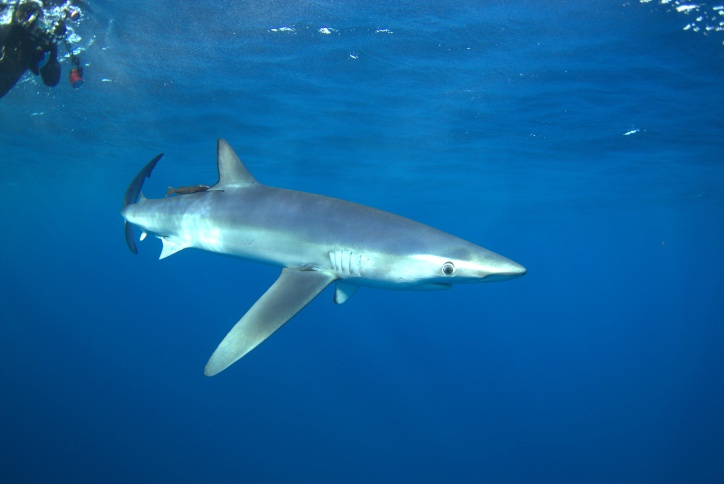Azul: (119, 131, 546, 384)
